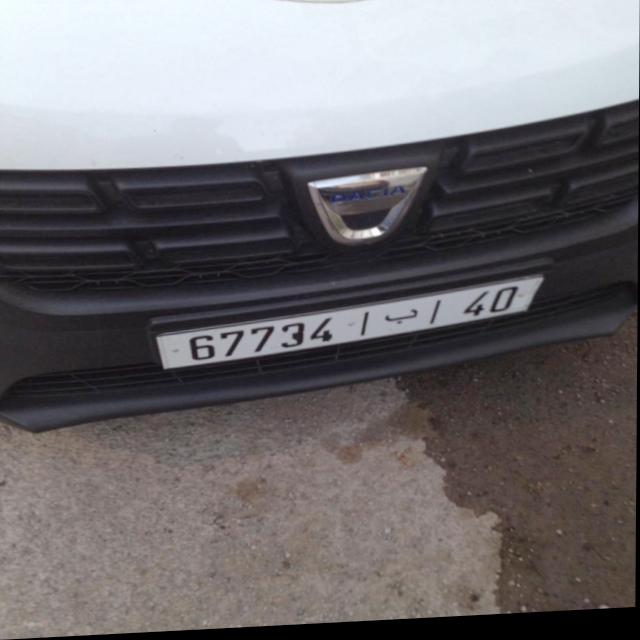License-Plate: (156, 282, 543, 370)
